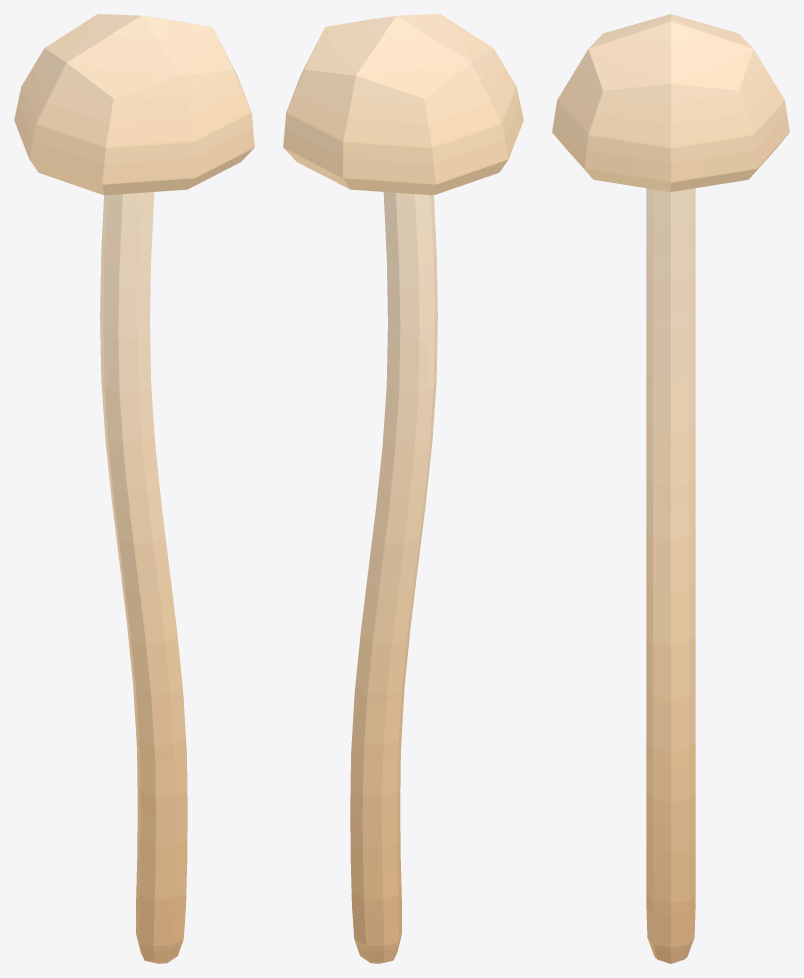
Rendered from Enoki_large.glb.
3 views of the same model, side by side, from view 1: azimuth 30°, elevation 25°; view 2: azimuth 150°, elevation 25°; view 3: azimuth 270°, elevation 25° (orthographic). The views are drawn at different scales.
Parts seen in each view (by area): view 1: Cube.001; view 2: Cube.001; view 3: Cube.001.
Part boxes in pixels (box(x1,y1,x2,y2)): Cube.001: box(14, 14, 254, 963); Cube.001: box(283, 14, 523, 963); Cube.001: box(552, 14, 789, 963).
Size of the model in its own units: 2.95 by 12.78 by 2.95.
1 material, 1 textured.
